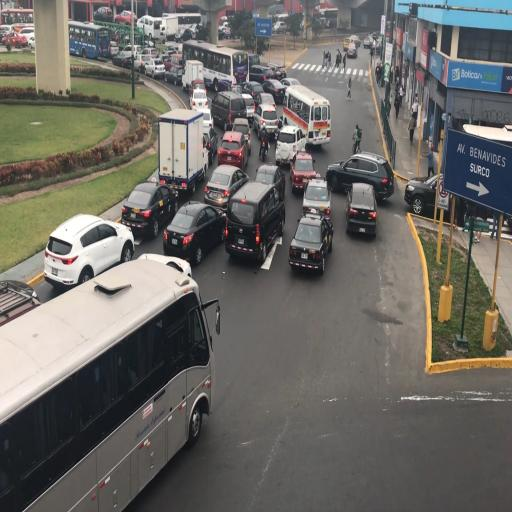auto: (43, 209, 132, 287), (226, 177, 284, 262), (164, 200, 226, 264), (121, 177, 179, 237), (326, 152, 390, 202), (288, 212, 333, 274), (205, 162, 248, 212), (405, 172, 448, 219), (344, 182, 376, 238), (211, 89, 248, 131), (253, 162, 286, 204), (216, 130, 250, 170), (275, 124, 305, 169), (290, 150, 318, 194), (302, 176, 330, 219), (254, 104, 278, 142), (261, 78, 287, 105), (248, 64, 278, 86), (115, 44, 141, 67), (138, 47, 161, 71), (165, 53, 186, 79), (254, 91, 276, 114), (2, 30, 27, 50), (190, 86, 209, 112), (196, 108, 214, 130), (114, 9, 137, 26), (92, 6, 114, 23), (279, 77, 301, 92), (272, 20, 286, 34), (346, 42, 358, 58), (352, 34, 361, 48), (363, 35, 372, 49), (218, 23, 225, 34)
bus: (157, 108, 206, 200), (182, 58, 204, 94)
camion: (260, 132, 270, 158), (352, 131, 361, 155)
moto: (0, 254, 214, 502), (183, 40, 243, 91), (283, 83, 329, 149), (69, 20, 110, 59), (163, 13, 202, 40), (0, 7, 32, 32), (139, 14, 166, 41)
